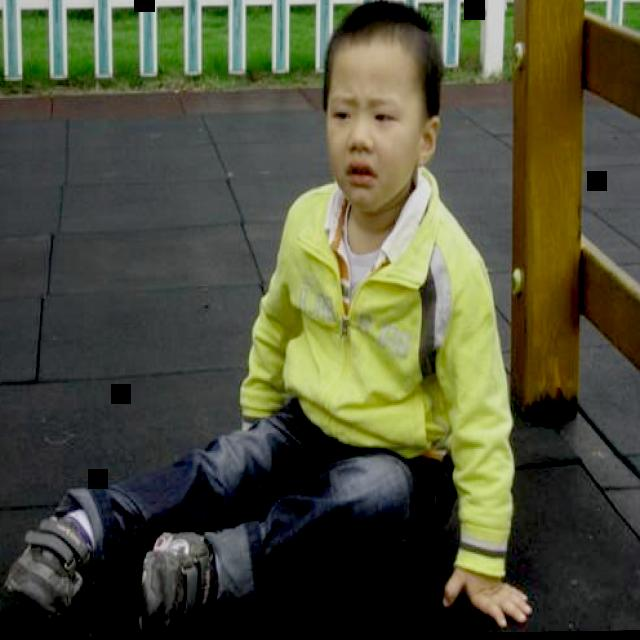Fall-Detected: (19, 0, 548, 629)
